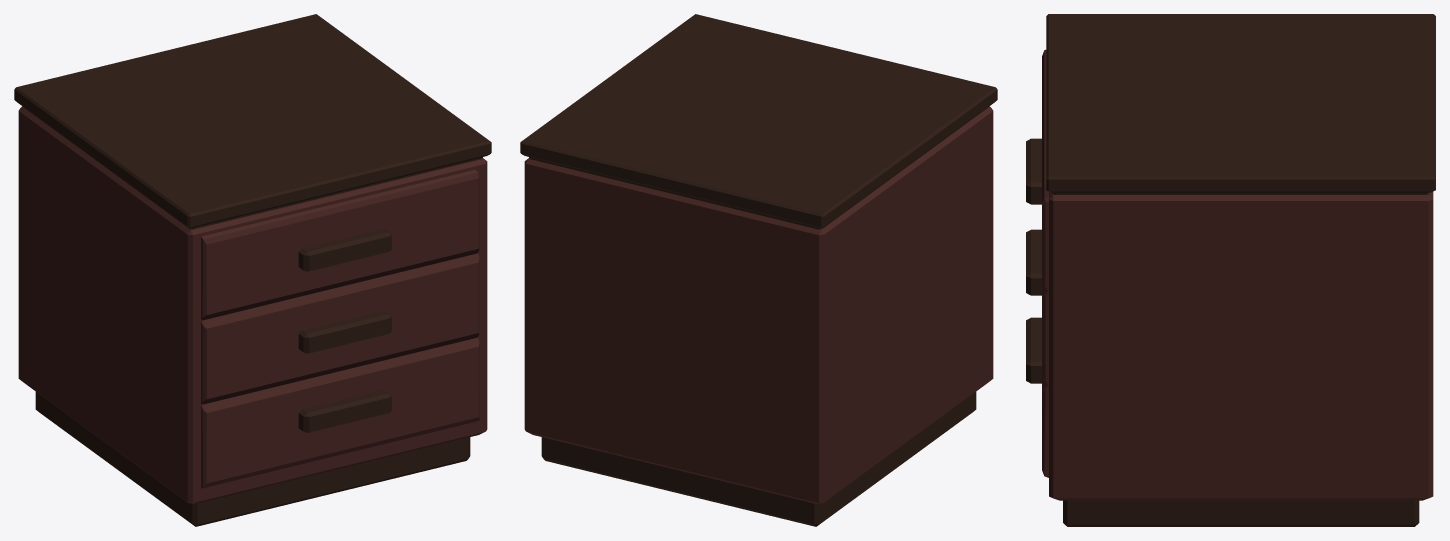
File: bedsideTable.fbx
3 views of the same model, side by side, from view 1: azimuth 30°, elevation 25°; view 2: azimuth 150°, elevation 25°; view 3: azimuth 270°, elevation 25° (orthographic). The views are drawn at different scales.
Visible parts, largest first — view 1: Bedside Table; view 2: Bedside Table; view 3: Bedside Table.
Part boxes in pixels (x1,y1,x2,y2): Bedside Table: (14,14,491,526); Bedside Table: (520,14,997,526); Bedside Table: (1026,14,1435,526).
Size of the model in its own units: 203 by 206 by 213.
